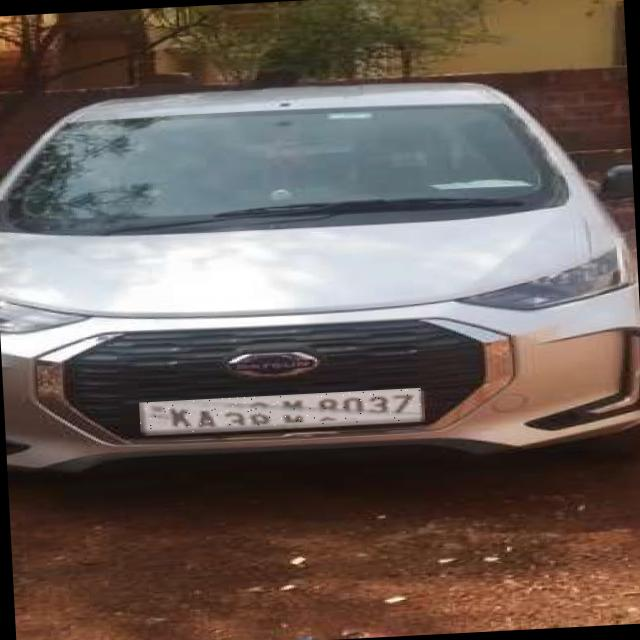Plate: (140, 389, 423, 436)
